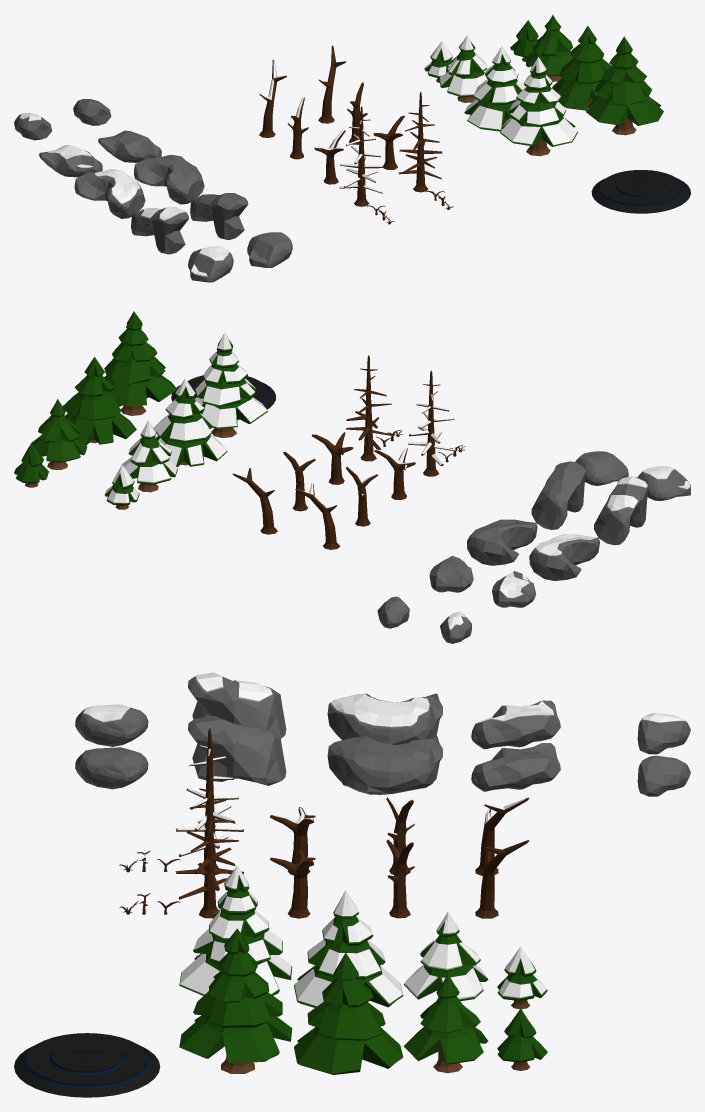
File: Winter Forrest Pack.fbx
3 renders of one model, top to bottom at view 1: azimuth 30°, elevation 25°; view 2: azimuth 150°, elevation 25°; view 3: azimuth 270°, elevation 25°, orthographic. The views are drawn at different scales.
Parts seen in each view (by area): view 1: Cylinder, Cylinder.010, Platform, Cylinder.001, Cylinder.011, Cube.003, Cube.009, Cube.005, Cube.011, Cylinder.004, Cylinder.013, Cube.002 (+15 smaller); view 2: Cylinder, Cylinder.010, Cylinder.001, Cylinder.011, Cube.005, Cube.011, Cube.003, Cube.009, Cylinder.004, Cylinder.013, Cylinder.008, Cube.006 (+15 smaller); view 3: Cylinder.010, Platform, Cylinder.011, Cylinder, Cylinder.001, Cube.009, Cube.011, Cube.003, Cylinder.013, Cube.005, Cylinder.004, Cube.002 (+15 smaller).
Part boxes in pixels (x1,y1,x2,y2): Cylinder: [500, 57, 577, 156]; Cylinder.010: [586, 36, 663, 135]; Platform: [591, 170, 690, 213]; Cylinder.001: [464, 46, 526, 131]; Cylinder.011: [552, 26, 611, 110]; Cube.003: [74, 169, 145, 218]; Cube.009: [134, 155, 204, 204]; Cube.005: [131, 207, 188, 254]; Cube.011: [190, 193, 248, 239]; Cylinder.004: [439, 35, 487, 102]; Cylinder.013: [525, 15, 573, 81]; Cube.002: [39, 145, 102, 177]; Cylinder: [194, 332, 267, 437]; Cylinder.010: [104, 311, 177, 415]; Cylinder.001: [153, 378, 227, 466]; Cylinder.011: [62, 357, 136, 445]; Cube.005: [594, 476, 648, 545]; Cube.011: [531, 461, 586, 529]; Cube.003: [529, 534, 599, 580]; Cube.009: [467, 519, 537, 565]; Cylinder.004: [121, 420, 177, 492]; Cylinder.013: [31, 399, 87, 469]; Cylinder.008: [408, 370, 456, 476]; Cube.006: [638, 466, 690, 500]; Cylinder.010: [179, 928, 292, 1073]; Platform: [14, 1033, 160, 1097]; Cylinder.011: [294, 952, 403, 1074]; Cylinder: [179, 866, 292, 995]; Cylinder.001: [294, 890, 403, 1007]; Cube.009: [327, 736, 442, 794]; Cube.011: [188, 715, 286, 785]; Cube.003: [327, 693, 442, 744]; Cylinder.013: [403, 974, 488, 1073]; Cube.005: [188, 672, 286, 738]; Cylinder.004: [404, 911, 488, 1000]; Cube.002: [471, 700, 560, 749].
Size of what is drawn, in the model's own units: 3253 by 682 by 2502.
